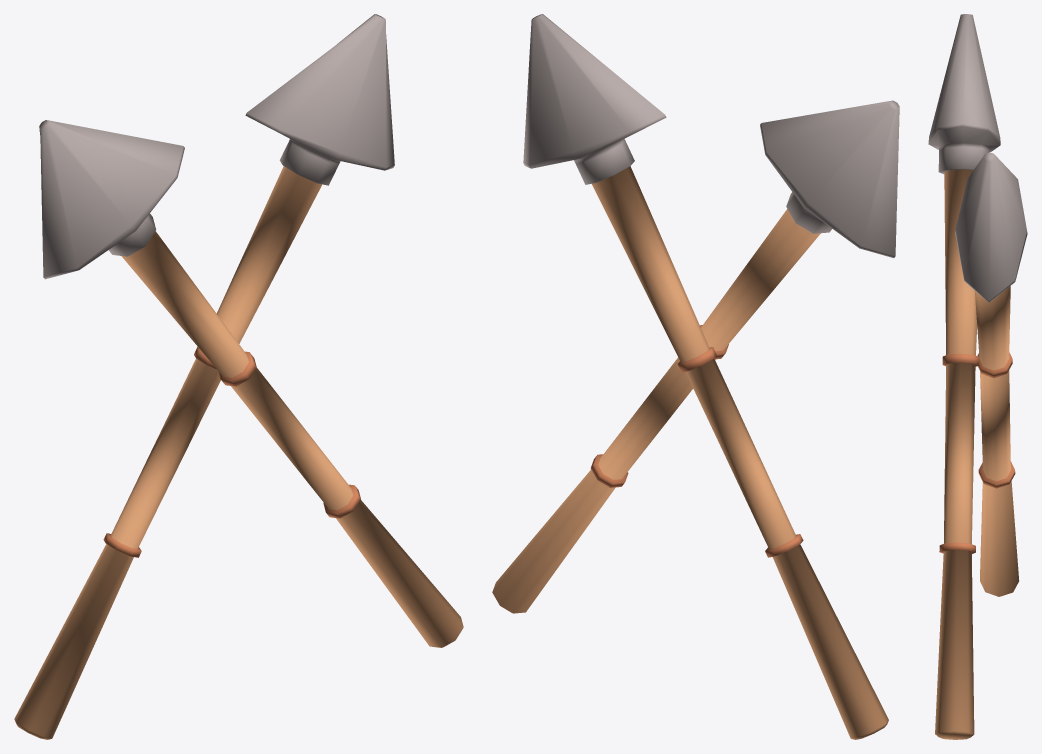
The model's file is tiki arrow.fbx.
3 renders of one model, left to right at view 1: azimuth 30°, elevation 25°; view 2: azimuth 150°, elevation 25°; view 3: azimuth 270°, elevation 25°, orthographic. The views are drawn at different scales.
Visible parts, largest first — view 1: Cylinder.019; view 2: Cylinder.019; view 3: Cylinder.019.
Boxes of the visible parts, x1=… form: Cylinder.019: x1=14, y1=14, x2=463, y2=739; Cylinder.019: x1=492, y1=14, x2=899, y2=739; Cylinder.019: x1=928, y1=14, x2=1027, y2=739.
Size of the model in its own units: 129 by 191 by 29.15.
